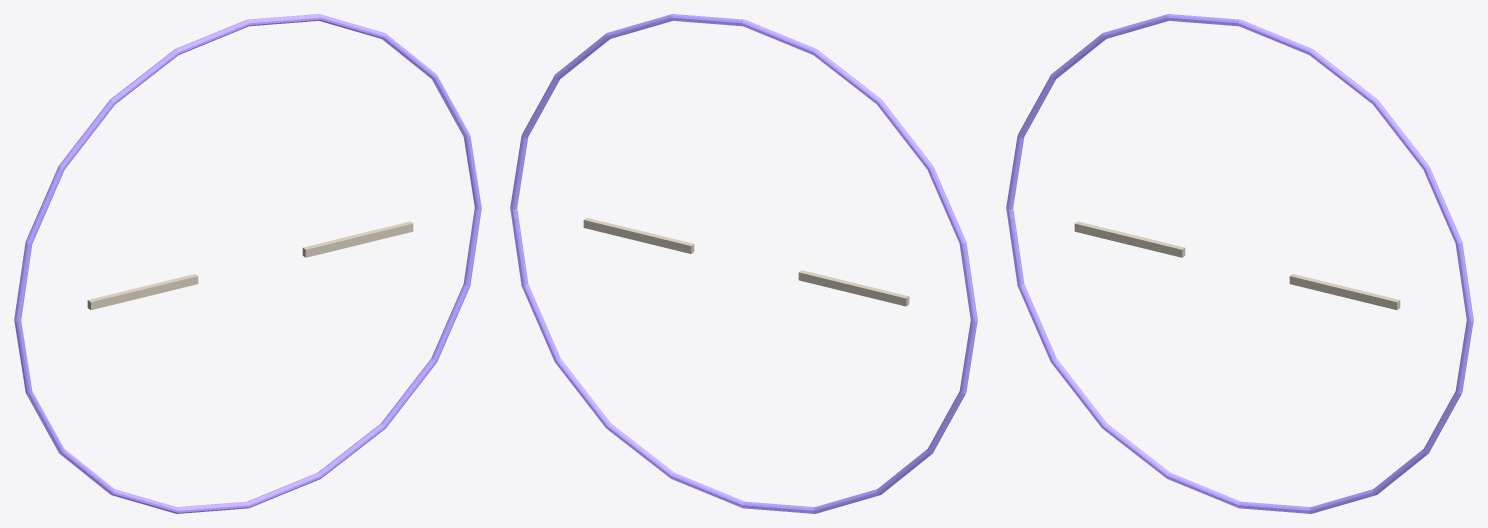
The model's file is hazard-phase.glb.
3 views of the same model, side by side, from view 1: azimuth 30°, elevation 25°; view 2: azimuth 150°, elevation 25°; view 3: azimuth 330°, elevation 25° (orthographic).
Visible parts, largest first — view 1: trim_static, hull_static; view 2: trim_static, hull_static; view 3: trim_static, hull_static.
Part boxes in pixels (x1,y1,x2,y2): trim_static: (14,14,481,513); hull_static: (87,221,413,309); trim_static: (510,14,977,513); hull_static: (583,218,909,306); trim_static: (1006,14,1473,513); hull_static: (1074,221,1400,309).
Bounding box in the file's own units: 4256 × 4256 × 90.63.
